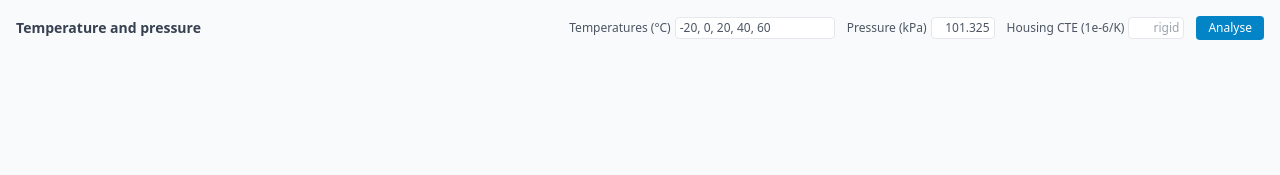
Test: EnvironmentPanel › runs the analysis and shows the drift from 20 C
Replace the text in the field labelled "Temperatures" with "0, 20, 60": (755, 28) left=675, top=17, right=835, bottom=39
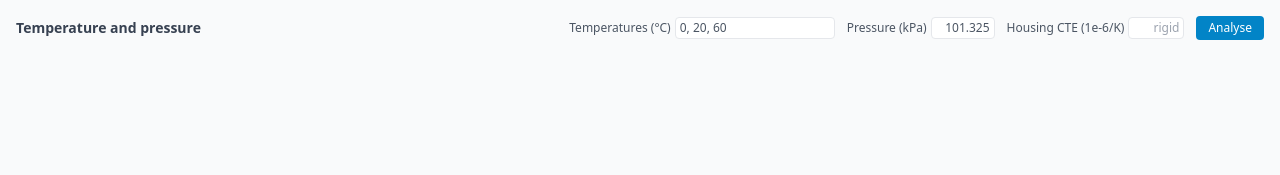
In the field labelled "Housing CTE": (1156, 28) left=1128, top=17, right=1184, bottom=39, type "23.6"
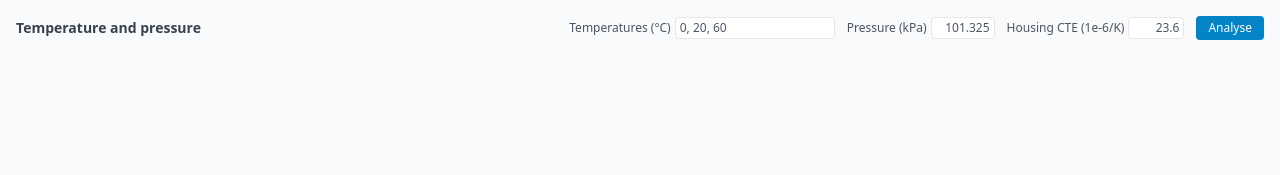
Click the button "Analyse": (1230, 28) left=1196, top=16, right=1264, bottom=40
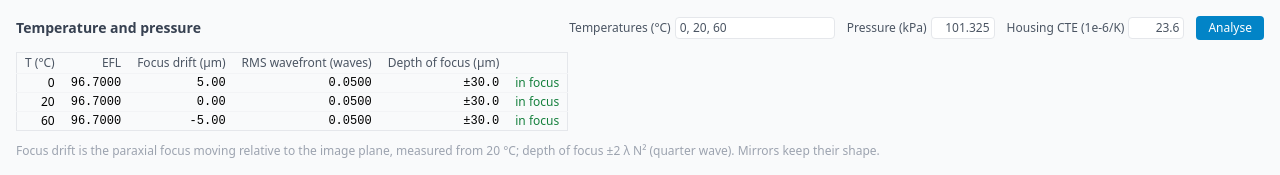
Result: the table with test id "environment-table" is shown at left=16, top=52, right=568, bottom=131
Result: the table with test id "environment-table" shows "-5.00" at left=190, top=114, right=226, bottom=128
Result: the table with test id "environment-table" shows "in focus" at left=515, top=74, right=559, bottom=91
